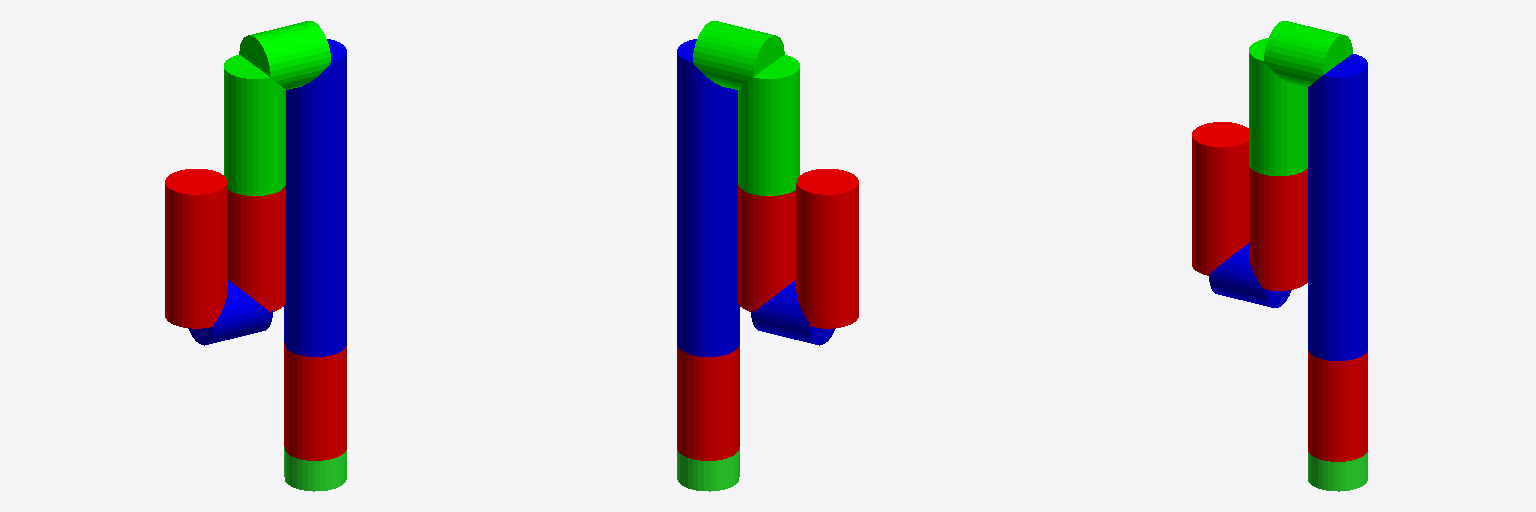
URDF robot description (robot):
<?xml version="1.0"?>
<robot xmlns:xacro="http://www.ros.org/wiki/xacro" name="robot">


    <!-- Define the "world" link -->
    <link name="world"></link>

    <!-- Define the joint connecting the "world" link to the "table_link" -->
    <joint name="table_joint" type="fixed">
        <origin xyz="0.0 0.0 0.0" rpy="0.0 0.0 0.0"/>
        <parent link="world"/>
        <child link="table_link"/>
    </joint>

    <!-- Define the "table_link" -->
    <link name="table_link">  
        <visual>
            <origin xyz="0.0 0.0 0.0273625" rpy="0.0 0.0 0.0"/>
            <geometry>
                <cylinder length="0.054725" radius="0.05080"/>
            </geometry>
            <material name="green">
                <color rgba="0.2 1 0.2 1"/>
            </material>
        </visual>
        <collision>
            <origin xyz="0 0 0.05" rpy="0 0 0"/>
            <geometry>
                <cylinder length="0.054725" radius="0.05080"/>
            </geometry>
        </collision>
    </link>

    <!-- Define the joint connecting the "table_link" to the "base_link" -->
    <joint name="bace_joint" type="revolute">
        <origin xyz="0.0 0.0 0.054725" rpy="0.0 0.0 -1.570796"/>
        <parent link="table_link"/>
        <child link="base_link"/>
        <axis xyz="0.0 0.0 1"/>
        <limit lower="-3.141692" upper="3.141692" effort="60.0" velocity="100.0"/>
    </joint>

    <!-- Define the "base_link" -->
    <link name="base_link">
        <visual>
            <origin xyz="0.0 0.0 0.0931375" rpy="0.0 0.0 0.0"/>
            <geometry>
                <cylinder length="0.186275" radius="0.05080"/>
            </geometry>
            <material name="red">
                <color rgba="1.0 0.0 0.0 1.0"/>
            </material>
        </visual>
        <collision>
            <origin xyz="0.0 0.0 0.0931375" rpy="0.0 0.0 0.0"/>
            <geometry>
                <cylinder length="0.186275" radius="0.05080"/>
            </geometry>
        </collision>
    </link>

    <!-- Define the joint connecting the "base_link" to the "sholder_link" -->
    <joint name="sholder_joint" type="revolute">
        <origin xyz="0.0 0.0 0.186275" rpy="0.0 0.0 0.0"/>
        <parent link="base_link"/>
        <child link="sholder_link"/>
        <axis xyz="0.0 1.0 0.0"/>
        <limit lower="-1.570796" upper="1.570796" effort="60.0" velocity="100.0"/>
    </joint>

    <!-- Define the "sholder_link" -->
    <link name="sholder_link">
        <visual>
            <origin xyz="0.0 0.0 0.2625" rpy="0.0 0.0 0.0"/>
            <geometry>
                <cylinder length="0.525" radius="0.05080"/>
            </geometry>
            <material name="blue">
                <color rgba="0.0 0.0 1.0 1.0"/>
            </material>
        </visual>
        <collision>
            <origin xyz="0.0 0.0 0.2625" rpy="0.0 0.0 0.0"/>
            <geometry>
                <cylinder length="0.525" radius="0.05080"/>
            </geometry>
        </collision>
    </link>

    <joint name="sholder_to_elbow_joint" type="fixed">
        <origin xyz="0.0 0.0 0.525" rpy="-1.570796 0.0 0.0"/>
        <parent link="sholder_link"/>
        <child link="sholder_to_elbow_link"/>
    </joint>

    <link name="sholder_to_elbow_link">
        <visual name="">
            <origin xyz="0.0 0.0 -0.057" rpy="0.0 0.0 0.0"/>
            <geometry>
                <cylinder length="0.114" radius="0.05080"/>
            </geometry>
            <material name="green">
                <color rgba="0.0 1.0 0.0 1.0"/>
            </material>
        </visual>
        <collision>
            <origin xyz="0.0 0.0 -0.057" rpy="0.0 0.0 0.0"/>
            <geometry>
                <cylinder length="0.114" radius="0.05080"/>
            </geometry>
        </collision>
    </link>

    <!-- Define the joint connecting the "sholder_link" to the "elbow_link" -->
    <joint name="elbow_joint" type="revolute">
        <origin xyz="0.0 0.0 -0.114" rpy="-1.570796 0.0 0.0"/>
        <parent link="sholder_to_elbow_link"/>
        <child link="elbow_link"/>
        <axis xyz="0.0 1.0 0.0"/>
        <limit lower="-3.141692" upper="3.141692" effort="60.0" velocity="100.0"/>
    </joint>

    <!-- Define the "elbow_link" -->
    <link name="elbow_link">
        <visual>
            <origin xyz="0.0 0.0 0.105" rpy="0.0 0.0 0.0"/>
            <geometry>
                <cylinder length="0.210" radius="0.05080"/>
            </geometry>
            <material name="green">
                <color rgba="0.0 1.0 0.0 1.0"/>
            </material>
        </visual>
        <collision>
            <origin xyz="0.0 0.0 0.105" rpy="0.0 0.0 0.0"/>
            <geometry>
                <cylinder length="0.210" radius="0.05080"/>
            </geometry>
        </collision>
    </link>

    <!-- Define the joint connecting the "elbow_link" to the "elbow_revolute_link" -->
    <joint name="elbow_revolute_joint" type="revolute">
        <origin xyz="0.0 0.0 0.210" rpy="0.0 0.0 0.0"/>
        <parent link="elbow_link"/>
        <child link="elbow_revolute_link"/>
        <axis xyz="0.0 0.0 -1.0"/>
        <limit lower="-1.570796" upper="1.570796" effort="60.0" velocity="100.0"/>
    </joint>

    <!-- Define the "elbow_revolute_link" -->
    <link name="elbow_revolute_link">
        <visual>
            <origin xyz="0.0 0.0 0.106" rpy="0.0 0.0 0.0"/>
            <geometry>
                <cylinder length="0.212" radius="0.05080"/>
            </geometry>
            <material name="red">
                <color rgba="1.0 0.0 0.0 1.0"/>
            </material>
        </visual>
        <collision>
            <origin xyz="0.0 0.0 0.106" rpy="0.0 0.0 0.0"/>
            <geometry>
                <cylinder length="0.212" radius="0.05080"/>
            </geometry>
        </collision>
    </link>

    <joint name="elbow_revolute_to_wrist_joint" type="fixed">
        <origin xyz="0.0 0.0 0.212" rpy="-1.570796 0.0 0.0"/>
        <parent link="elbow_revolute_link"/>
        <child link="elbow_revolute_to_wrist_link"/>
    </joint>

    <link name="elbow_revolute_to_wrist_link">
        <visual>
            <origin xyz="0.0 0.0 0.05080" rpy="0.0 0.0 0.0"/>
            <geometry>
                <cylinder length="0.110" radius="0.05080"/>
            </geometry>
            <material name="blue">
                <color rgba="0.0 0.0 1.0 1.0"/>
            </material>
        </visual>
        <collision>
            <origin xyz="0.0 0.0 0.05080" rpy="0.0 0.0 0.0"/>
            <geometry>
                <cylinder length="0.110" radius="0.05080"/>
            </geometry>
        </collision>
    </link>

    <!-- Define the joint connecting the "elbow_revolute_link" to the "wrist_link" -->
    <joint name="wrist_joint" type="revolute">
        <origin xyz="0.0 0.0 0.110" rpy="-1.570796 0.0 0.0"/>
        <parent link="elbow_revolute_to_wrist_link"/>
        <child link="wrist_link"/>
        <axis xyz="0.0 -1.0 0.0"/>
        <limit lower="-3.141692" upper="3.141692" effort="60.0" velocity="100.0"/>
    </joint>

    <!-- Define the "wrist_link" -->
    <link name="wrist_link">
        <visual>
            <origin xyz="0.0 0.0 0.095" rpy="0.0 0.0 0.0"/>
            <geometry>
                <cylinder length="0.190" radius="0.05080"/>
            </geometry>
            <material name="green">
                <color rgba="1.0 0.0 0.0 1.0"/>
            </material>
        </visual>
        <collision>
            <origin xyz="0.0 0.0 0.095" rpy="0.0 0.0 0.0"/>
            <geometry>
                <cylinder length="0.190" radius="0.05080"/>
            </geometry>
        </collision>
    </link>

    <!-- Define the joint connecting the "wrist_link" to the "wrist_revolute_link" -->
    <joint name="wrist_revolute_link" type="revolute">
        <origin xyz="0.0 0.0 0.190" rpy="0 0.0 0.0"/>
        <parent link="wrist_link"/>
        <child link="wrist_revolute_link"/>
        <axis xyz="0.0 0.0 1.0"/>
        <limit lower="-3.141692" upper="3.141692" effort="60.0" velocity="100.0"/>
    </joint>

    <!-- Define the "wrist_revolute_link" -->
    <link name="wrist_revolute_link">
        <visual>
            <origin xyz="0.0 0.0 0.025" rpy="0.0 0.0 0.0"/>
            <geometry>
                <cylinder length="0.05" radius="0.05080"/>
            </geometry>
            <material name="red">
                <color rgba="1.0 0.0 0.0 1.0"/>
            </material>
        </visual>
        <collision>
            <origin xyz="0.0 0.0 0.025" rpy="0.0 0.0 0.0"/>
            <geometry>
                <cylinder length="0.05" radius="0.05080"/>
            </geometry>
        </collision>
    </link>
</robot>

--- Facts derived from the render (not from the file) ---
Views: 3 orthographic renders of the robot side by side, from view 1: azimuth 30°, elevation 25°; view 2: azimuth 150°, elevation 25°; view 3: azimuth 330°, elevation 25°.
Robot: robot — 10 links, 9 joints (6 revolute, 3 fixed); root link world; default pose: all joints at 0.
Visible links, largest first — view 1: sholder_link, elbow_link, base_link, wrist_link, elbow_revolute_link, sholder_to_elbow_link, wrist_revolute_link, elbow_revolute_to_wrist_link, table_link; view 2: sholder_link, elbow_link, base_link, wrist_link, elbow_revolute_link, sholder_to_elbow_link, wrist_revolute_link, elbow_revolute_to_wrist_link, table_link; view 3: sholder_link, elbow_revolute_link, elbow_link, base_link, wrist_link, sholder_to_elbow_link, wrist_revolute_link, elbow_revolute_to_wrist_link, table_link.
Link boxes in pixels (<box>): sholder_link: <box>284,39,346,356</box>; elbow_link: <box>224,55,285,195</box>; base_link: <box>284,343,346,460</box>; wrist_link: <box>165,210,227,328</box>; elbow_revolute_link: <box>228,185,285,312</box>; sholder_to_elbow_link: <box>239,21,330,89</box>; wrist_revolute_link: <box>165,169,227,222</box>; elbow_revolute_to_wrist_link: <box>188,280,272,345</box>; table_link: <box>284,447,346,491</box>; sholder_link: <box>677,39,739,356</box>; elbow_link: <box>738,55,799,195</box>; base_link: <box>677,343,739,460</box>; wrist_link: <box>796,210,858,328</box>; elbow_revolute_link: <box>738,185,795,312</box>; sholder_to_elbow_link: <box>693,21,784,89</box>; wrist_revolute_link: <box>796,169,858,222</box>; elbow_revolute_to_wrist_link: <box>751,280,835,345</box>; table_link: <box>677,447,739,491</box>; sholder_link: <box>1308,54,1367,360</box>; elbow_revolute_link: <box>1249,167,1307,290</box>; elbow_link: <box>1249,38,1307,175</box>; base_link: <box>1308,351,1367,461</box>; wrist_link: <box>1192,164,1248,275</box>; sholder_to_elbow_link: <box>1264,21,1352,87</box>; wrist_revolute_link: <box>1192,122,1248,173</box>; elbow_revolute_to_wrist_link: <box>1209,243,1291,307</box>; table_link: <box>1308,452,1367,491</box>.
Size in the robot's own frame: 0.3256 by 0.1016 by 0.8168 metres.
Geometry: primitives only (box / cylinder / sphere), no mesh files.